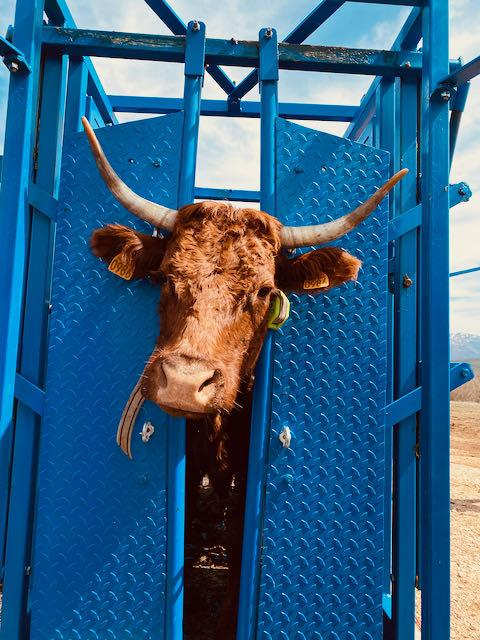muzzles: (136, 353, 241, 420)
